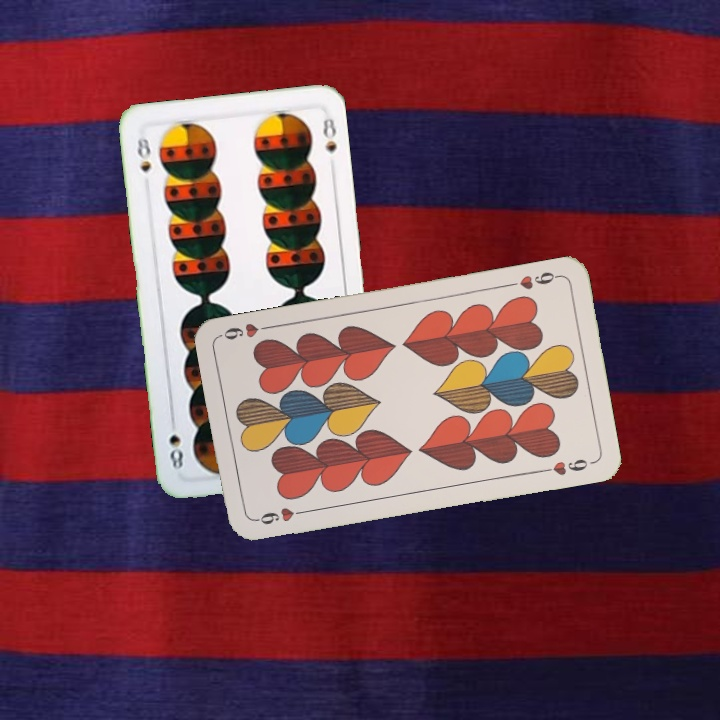H9: (504, 267, 563, 292), (251, 503, 310, 527)
S8: (133, 132, 154, 175)
